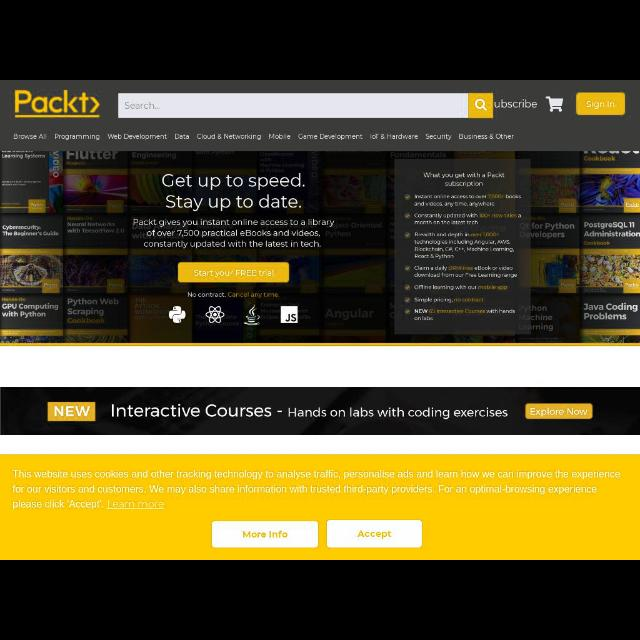backgroundimage: (1, 152, 638, 348)
checkbox: (402, 282, 412, 292), (402, 296, 412, 304), (402, 213, 412, 220), (402, 232, 412, 238), (402, 265, 412, 271), (403, 193, 409, 200), (404, 308, 408, 312)
icon: (543, 94, 567, 114), (472, 97, 490, 113)
iframe: (1, 456, 638, 560), (3, 386, 639, 436)
image: (9, 85, 103, 118), (164, 306, 190, 324), (242, 304, 262, 326), (204, 306, 223, 324), (280, 306, 298, 324)
input: (119, 92, 494, 118)
panel: (395, 159, 529, 333)
text: (130, 218, 336, 248), (160, 172, 306, 210), (414, 232, 516, 258), (416, 265, 522, 281), (413, 193, 521, 207), (414, 212, 520, 226), (420, 171, 506, 187), (414, 282, 508, 294), (414, 309, 516, 319), (186, 290, 280, 300), (106, 131, 166, 143), (297, 131, 363, 141), (412, 297, 484, 305), (458, 132, 514, 142), (6, 130, 49, 142), (197, 132, 261, 140), (370, 130, 420, 140), (194, 271, 276, 277), (54, 131, 102, 141), (122, 101, 160, 111), (585, 100, 615, 110), (494, 102, 538, 108), (424, 132, 452, 140), (268, 130, 290, 140), (172, 132, 190, 140)
textbutton: (178, 264, 288, 280), (574, 92, 626, 116)
toolbar: (1, 81, 638, 151)
